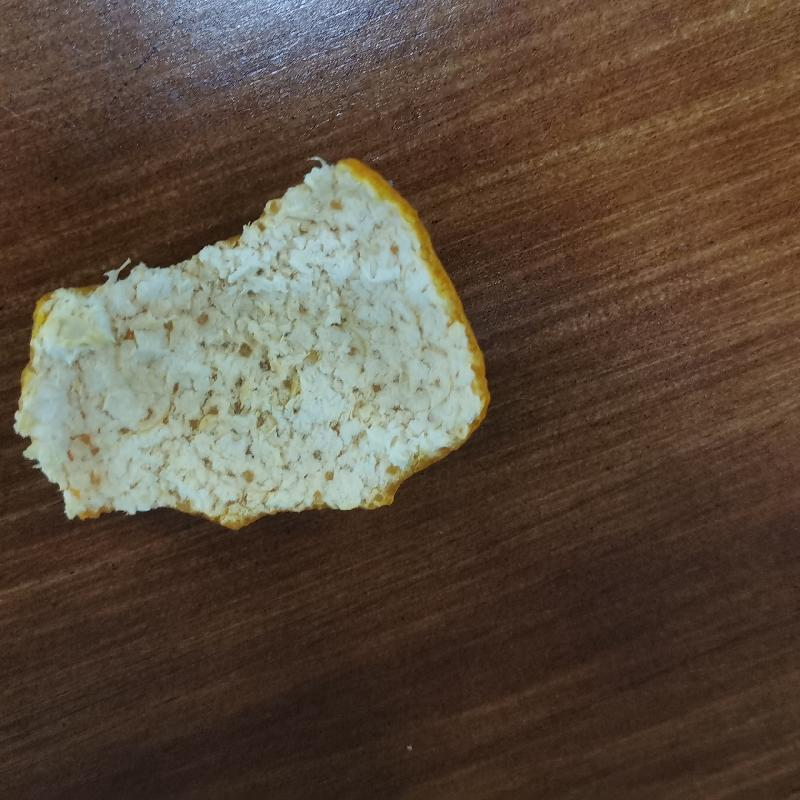orange: (12, 160, 488, 521)
